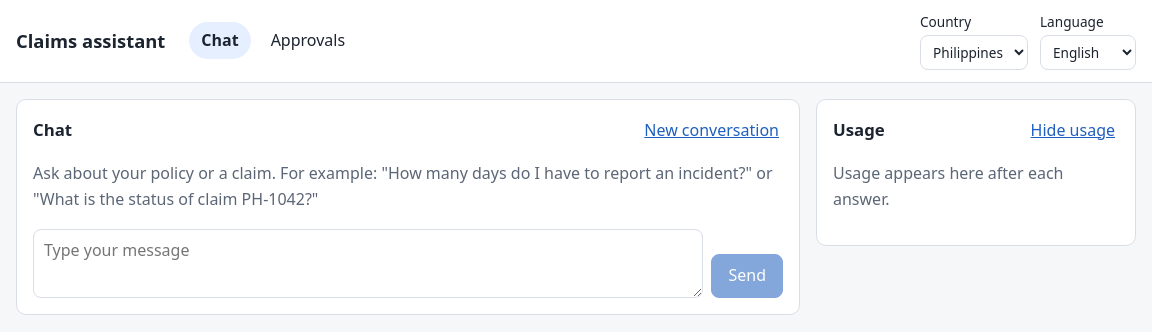
it: chat › switches every UI string to the chosen language
Select "Filipino" in the dropdown labelled "Language" at {"x": 1088, "y": 52}, box x1=1040 y1=35 x2=1136 y2=70
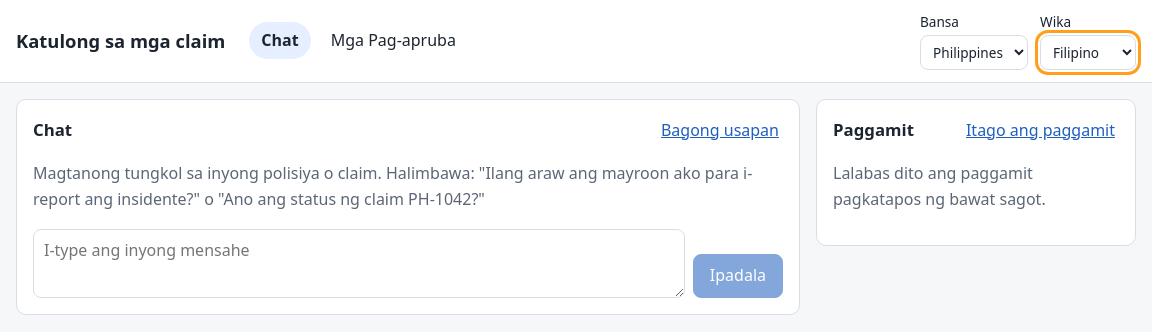
Expected: the dropdown labelled "Bansa" is shown, x1=920 y1=35 x2=1028 y2=70
Expected: the button "Ipadala" is shown, x1=693 y1=254 x2=783 y2=298
